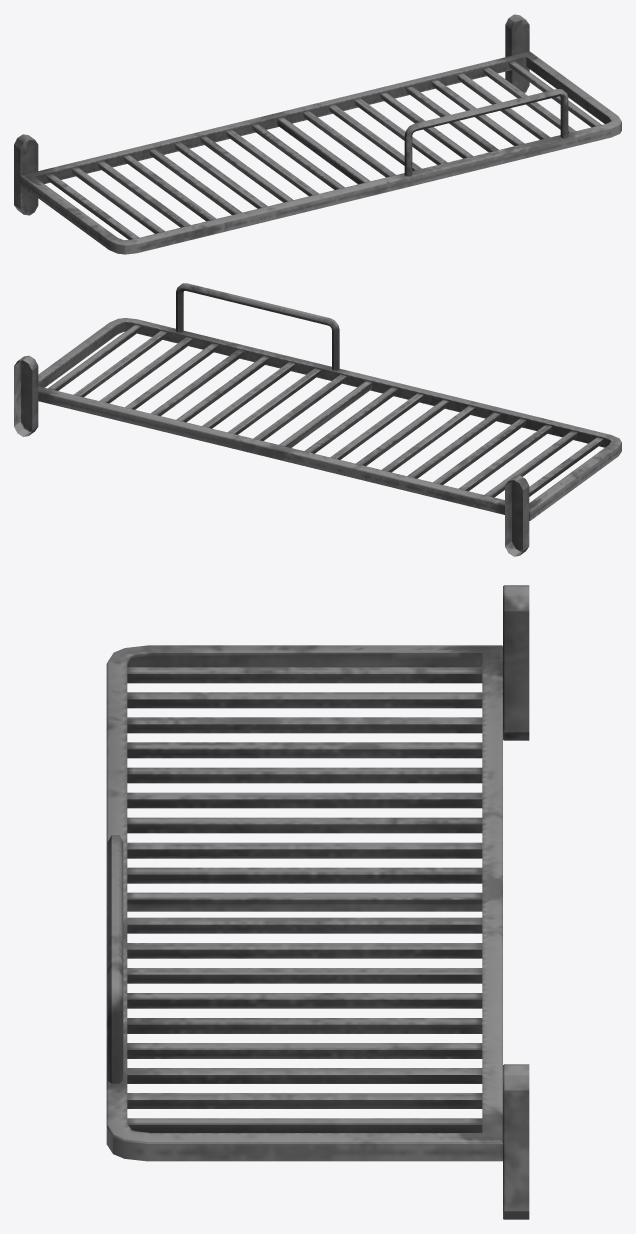
File: SM_MetalShelf_B.fbx
The picture shows the model from 3 angles, top to bottom: view 1: azimuth 30°, elevation 25°; view 2: azimuth 150°, elevation 25°; view 3: azimuth 270°, elevation 25°; orthographic projection. The views are drawn at different scales.
Parts seen in each view (by area): view 1: SM_MetalShelf_B; view 2: SM_MetalShelf_B; view 3: SM_MetalShelf_B.
Boxes of the visible parts, x1,y1,x2,y2 form: SM_MetalShelf_B: (14, 14, 621, 254); SM_MetalShelf_B: (14, 283, 621, 556); SM_MetalShelf_B: (106, 585, 529, 1219).
Size of the model in its own units: 1.4 by 0.5036 by 0.2414.
